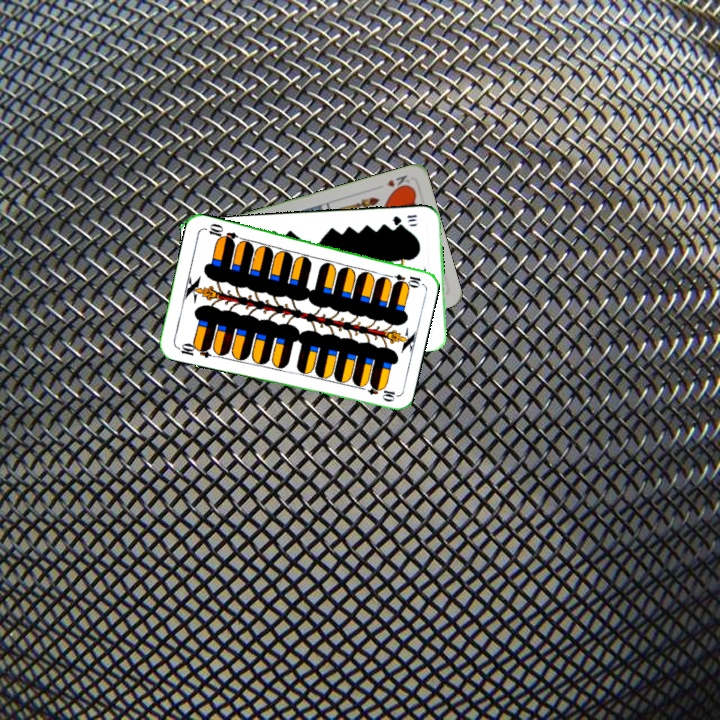E10: (173, 339, 213, 360), (383, 270, 423, 288)
G10: (389, 211, 420, 228)
HK: (383, 171, 413, 193)
